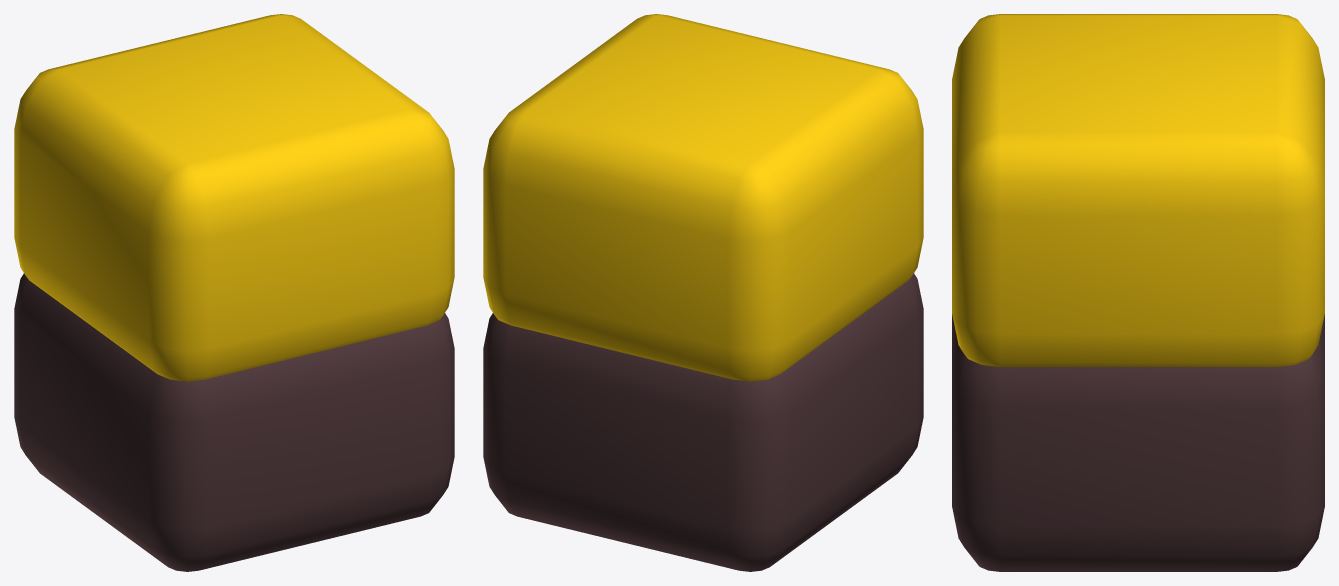
The model's file is box_mini_yellow.fbx.
3 views of the same model, side by side, from view 1: azimuth 30°, elevation 25°; view 2: azimuth 150°, elevation 25°; view 3: azimuth 270°, elevation 25° (orthographic). The views are drawn at different scales.
Visible parts, largest first — view 1: ChamferBox007, ChamferBox008; view 2: ChamferBox007, ChamferBox008; view 3: ChamferBox007, ChamferBox008.
Boxes of the visible parts, box(x1,y1,x2,y2) form: ChamferBox007: box(14, 14, 454, 381); ChamferBox008: box(14, 273, 454, 571); ChamferBox007: box(483, 14, 923, 381); ChamferBox008: box(483, 273, 923, 571); ChamferBox007: box(952, 14, 1324, 366); ChamferBox008: box(952, 314, 1324, 571).
Bounding box in the file's own units: 11.48 × 14.88 × 11.48.
